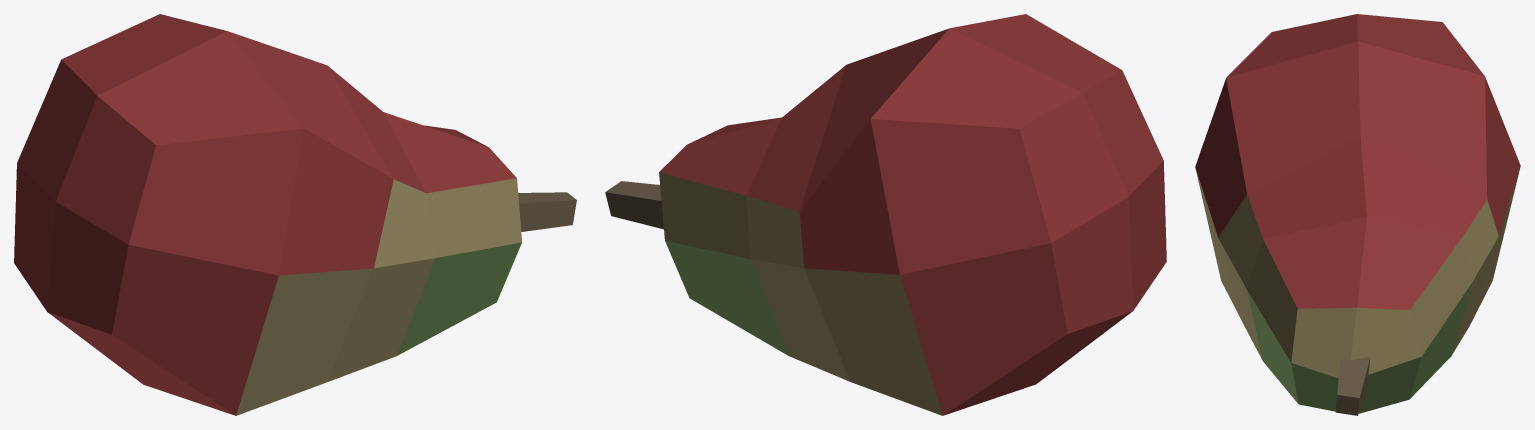
Rendered from mango.fbx.
3 views of the same model, side by side, from view 1: azimuth 30°, elevation 25°; view 2: azimuth 150°, elevation 25°; view 3: azimuth 270°, elevation 25° (orthographic). The views are drawn at different scales.
Parts seen in each view (by area): view 1: mango; view 2: mango; view 3: mango.
Boxes of the visible parts, <box> form: mango: <box>14,14,576,415</box>; mango: <box>605,14,1166,415</box>; mango: <box>1195,14,1520,415</box>.
Size of the model in its own units: 14.74 by 9.07 by 9.18.
Materials: 1 (1 with a texture image).
